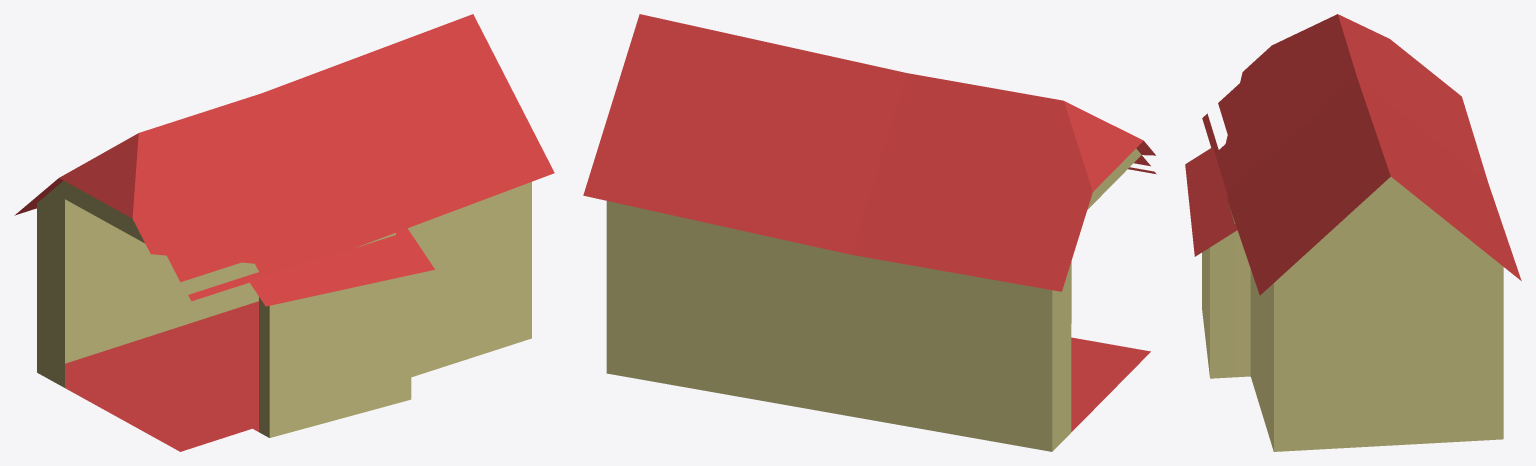
3 views of the same model, side by side, from view 1: azimuth 30°, elevation 25°; view 2: azimuth 150°, elevation 25°; view 3: azimuth 270°, elevation 25° (orthographic). The views are drawn at different scales.
Size of the model in its own units: 23.12 by 15.66 by 14.16.
